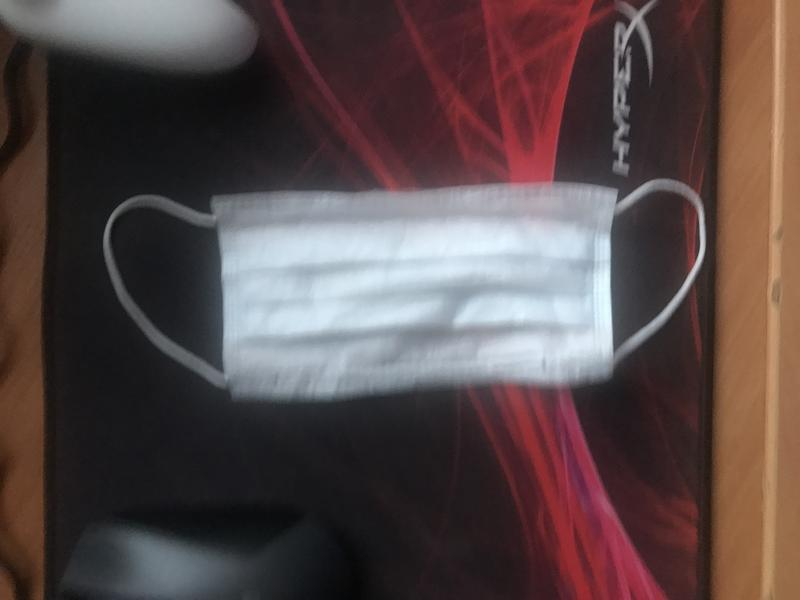medical_mask: (110, 177, 708, 398)
